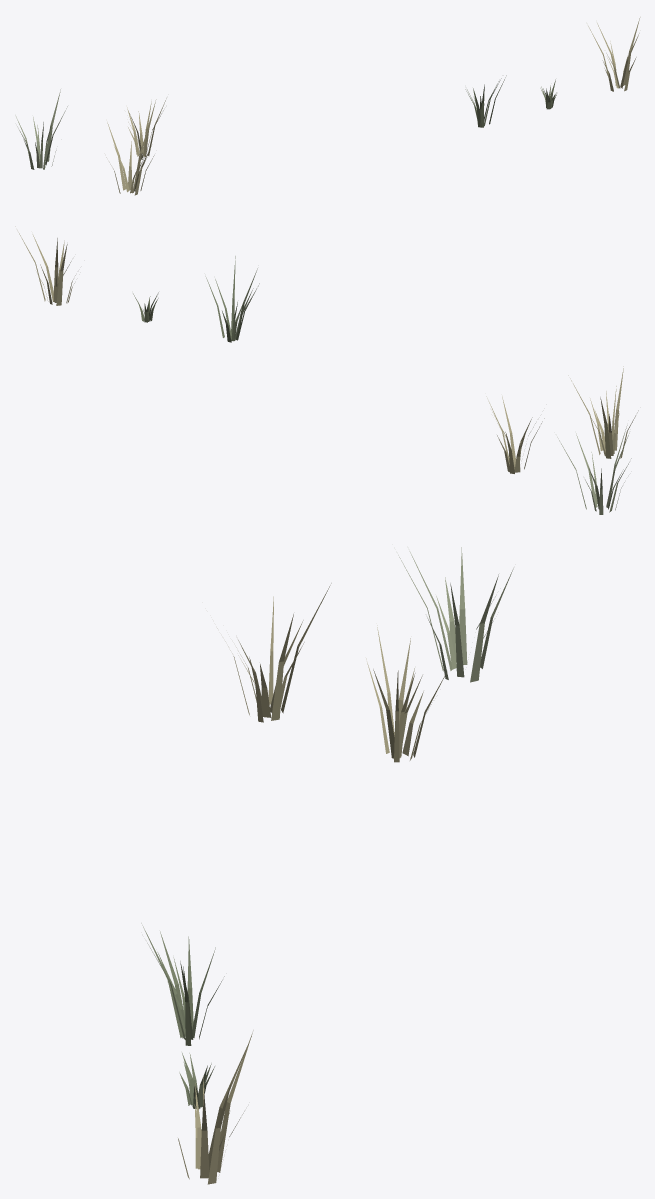
Rendered from AE_Grass_-5_3.fbx.
The picture shows the model from 3 angles, top to bottom: view 1: azimuth 30°, elevation 25°; view 2: azimuth 150°, elevation 25°; view 3: azimuth 270°, elevation 25°; orthographic projection. The views are drawn at different scales.
Parts seen in each view (by area): view 1: AE_Grass_-5_3_LOD0; view 2: AE_Grass_-5_3_LOD0; view 3: AE_Grass_-5_3_LOD0.
Part boxes in pixels (box(x1,y1,x2,y2)): AE_Grass_-5_3_LOD0: box(15, 17, 640, 195); AE_Grass_-5_3_LOD0: box(15, 226, 638, 514); AE_Grass_-5_3_LOD0: box(141, 547, 513, 1184).
Size of what is drawn, in the model's own units: 715 by 79.06 by 205.
